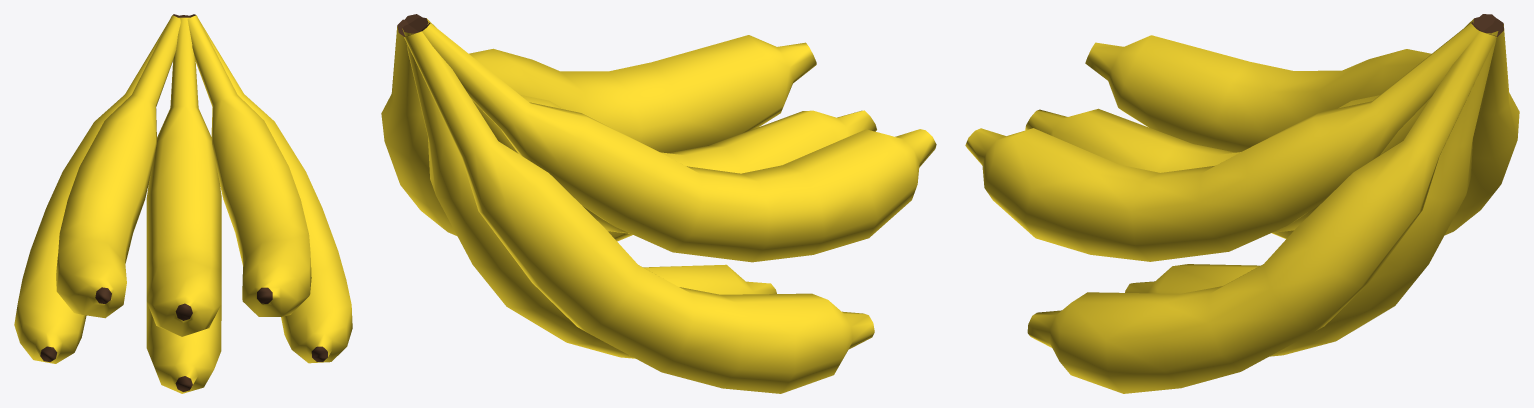
File: Toy232.fbx
3 renders of one model, left to right at view 1: azimuth 30°, elevation 25°; view 2: azimuth 150°, elevation 25°; view 3: azimuth 270°, elevation 25°, orthographic. The views are drawn at different scales.
Parts seen in each view (by area): view 1: Toy232; view 2: Toy232; view 3: Toy232.
Part boxes in pixels (<box>): Toy232: <box>14,14,352,393</box>; Toy232: <box>381,14,936,393</box>; Toy232: <box>965,14,1519,393</box>.
Bounding box in the file's own units: 0.1246 × 0.1109 × 0.1383.
